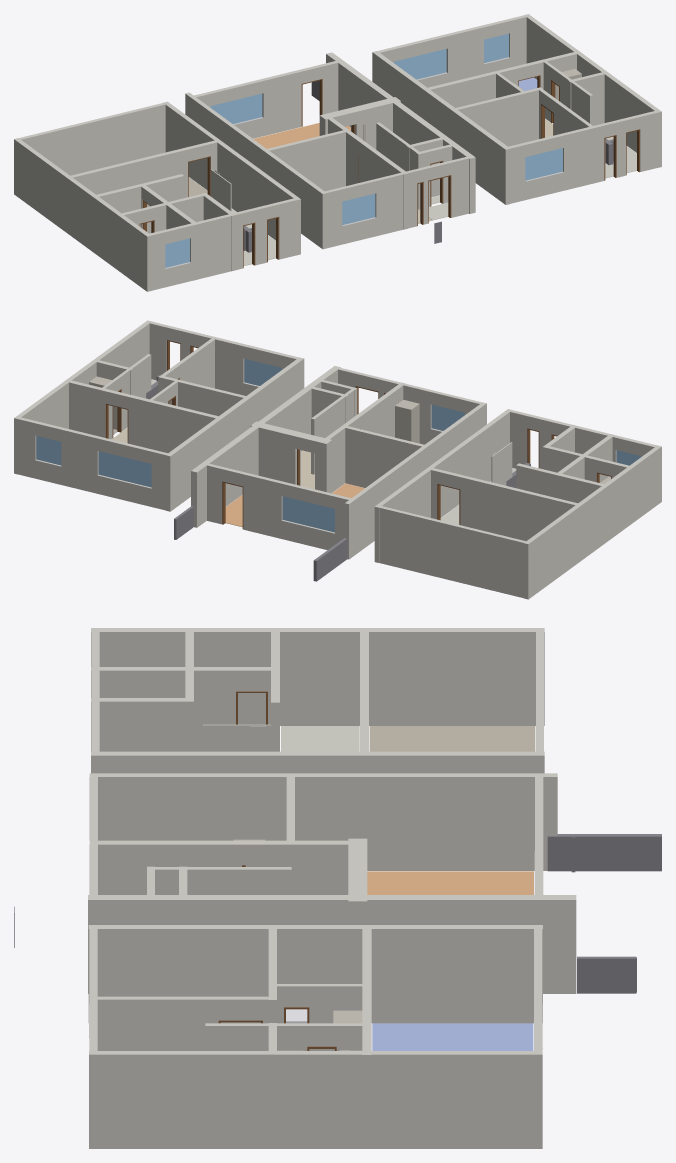
3 views of the same model, one above another, from view 1: azimuth 30°, elevation 25°; view 2: azimuth 150°, elevation 25°; view 3: azimuth 270°, elevation 25° (orthographic). The views are drawn at different scales.
Parts seen in each view (by area): view 1: walls, window_4, window_2, window_0, floor_1_Living_Room, window_5, railings, window_11, window_3; view 2: walls, railings, window_4, window_2, furniture_5_closet, floor_1_Living_Room, window_0, window_3, window_5, floor_8_Entry; view 3: walls, railings, floor_2_Bed_Room, floor_0_Storage, floor_1_Living_Room, floor_7_Undefined.
Boxes of the visible parts, left/top/right/bottom form: walls: left=14, top=14, right=661, bottom=291; window_4: left=394, top=49, right=446, bottom=79; window_2: left=210, top=93, right=262, bottom=123; window_0: left=525, top=148, right=562, bottom=180; floor_1_Living_Room: left=253, top=123, right=350, bottom=148; window_5: left=342, top=193, right=375, bottom=224; railings: left=243, top=80, right=613, bottom=252; window_11: left=165, top=238, right=189, bottom=267; window_3: left=484, top=33, right=508, bottom=62; walls: left=14, top=320, right=661, bottom=599; railings: left=146, top=375, right=530, bottom=581; window_4: left=98, top=451, right=151, bottom=487; window_2: left=282, top=496, right=334, bottom=532; furniture_5_closet: left=395, top=400, right=419, bottom=443; floor_1_Living_Room: left=225, top=483, right=364, bottom=526; window_0: left=244, top=359, right=281, bottom=385; window_3: left=36, top=436, right=61, bottom=465; window_5: left=431, top=404, right=464, bottom=430; floor_8_Entry: left=301, top=450, right=314, bottom=489; walls: left=88, top=628, right=576, bottom=1148; railings: left=14, top=834, right=661, bottom=993; floor_2_Bed_Room: left=372, top=1023, right=533, bottom=1050; floor_0_Storage: left=369, top=726, right=535, bottom=751; floor_1_Living_Room: left=367, top=871, right=533, bottom=894; floor_7_Undefined: left=281, top=726, right=359, bottom=751.
Bounding box in the file's own units: 26.28 × 2.72 × 16.86.
